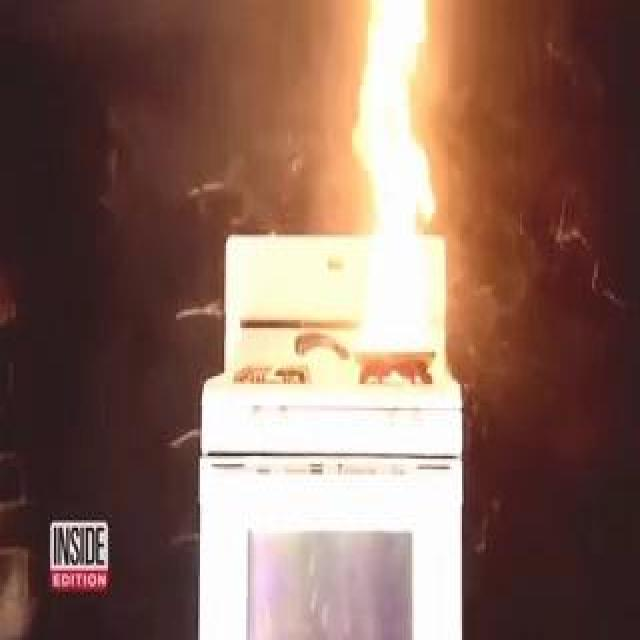Fire: (340, 3, 462, 360)
